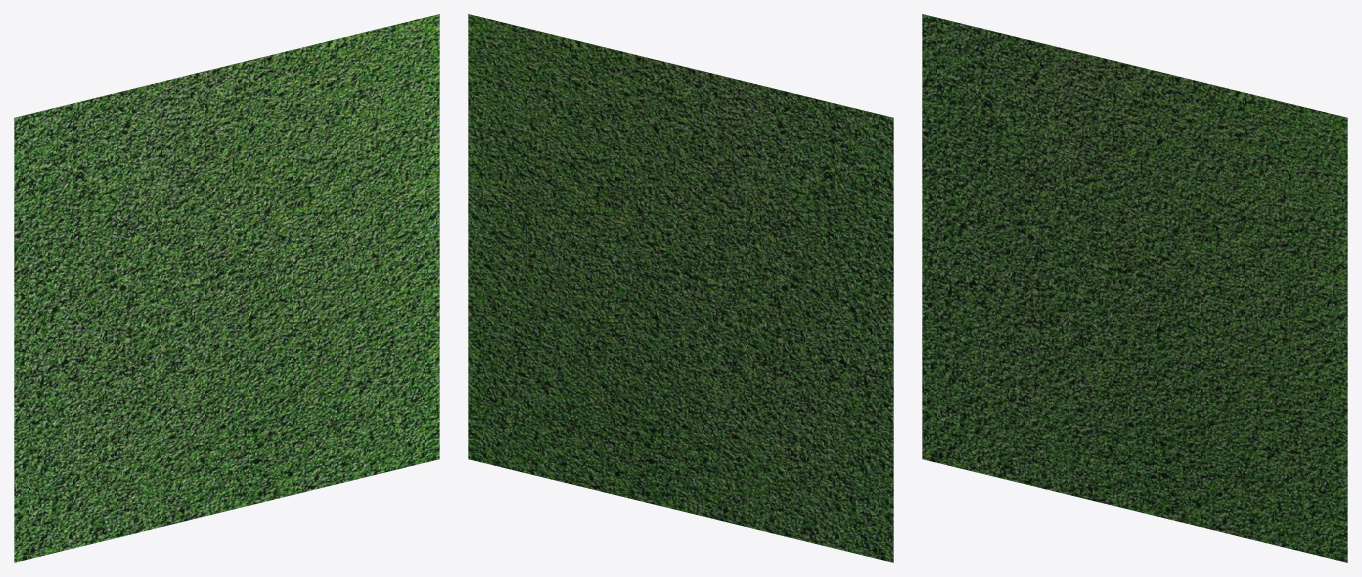
File: crater1.obj
3 renders of one model, left to right at view 1: azimuth 30°, elevation 25°; view 2: azimuth 150°, elevation 25°; view 3: azimuth 330°, elevation 25°, orthographic.
Size of the model in its own units: 3 by 3 by 0.
